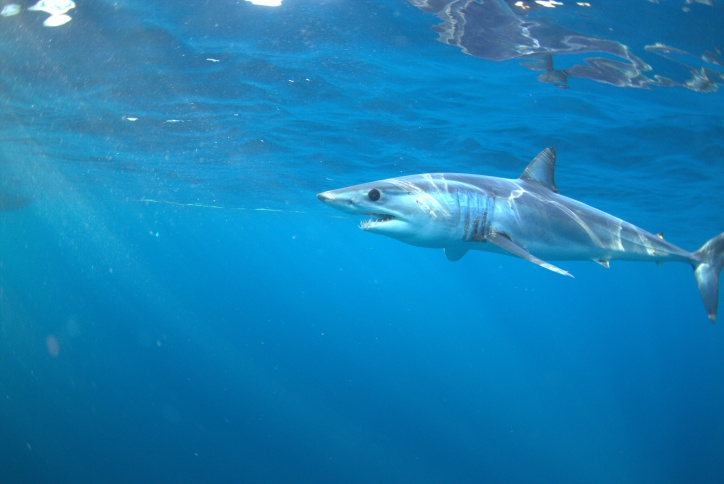Mako: (291, 135, 724, 329)
